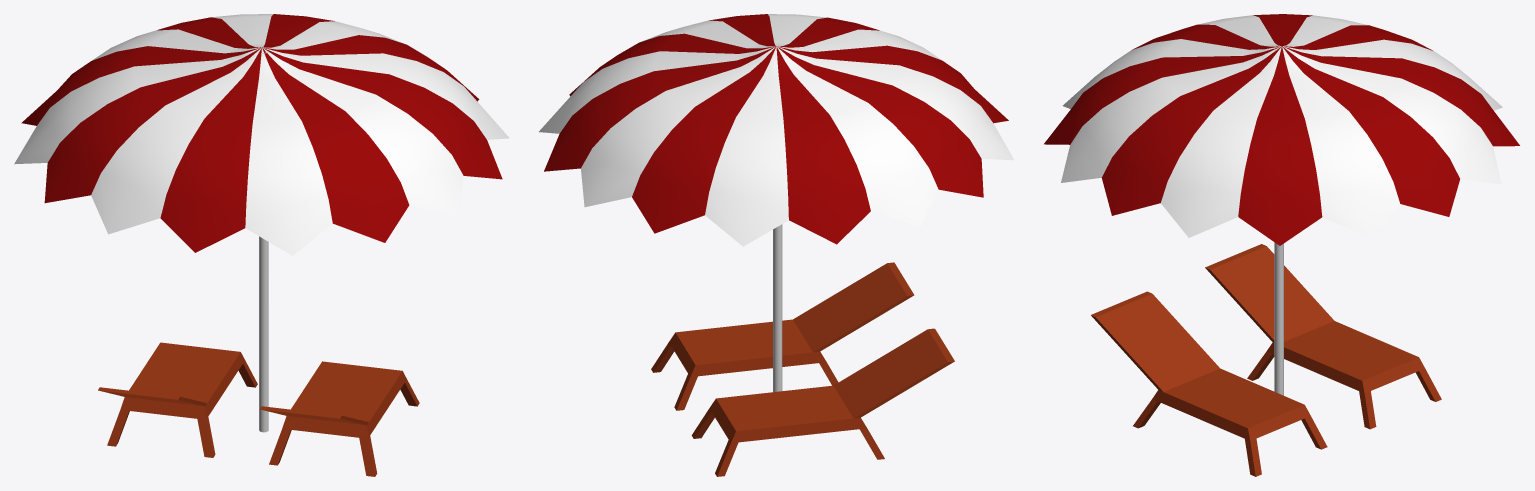
Rendered from uploads_files_2901196_low+polybeach+umbrella+and+chair.FBX.
The picture shows the model from 3 angles, left to right: view 1: azimuth 30°, elevation 25°; view 2: azimuth 150°, elevation 25°; view 3: azimuth 270°, elevation 25°; orthographic projection. The views are drawn at different scales.
Parts seen in each view (by area): view 1: Sphere103, Box089, Box088, Cylinder006; view 2: Sphere103, Box089, Box088, Cylinder006; view 3: Sphere103, Box088, Box089, Cylinder006.
Part boxes in pixels (x1,y1,x2,y2): Sphere103: (14,14,509,255); Box089: (98,342,257,457); Box088: (260,361,419,476); Cylinder006: (259,51,268,432); Sphere103: (539,14,1014,246); Box089: (691,328,954,476); Box088: (651,262,914,410); Cylinder006: (773,45,782,392); Sphere103: (1044,14,1519,245); Box088: (1091,291,1327,476); Box089: (1205,244,1441,429); Cylinder006: (1274,47,1283,395).
Size of the model in its own units: 1261942 by 1064322 by 1261942.
